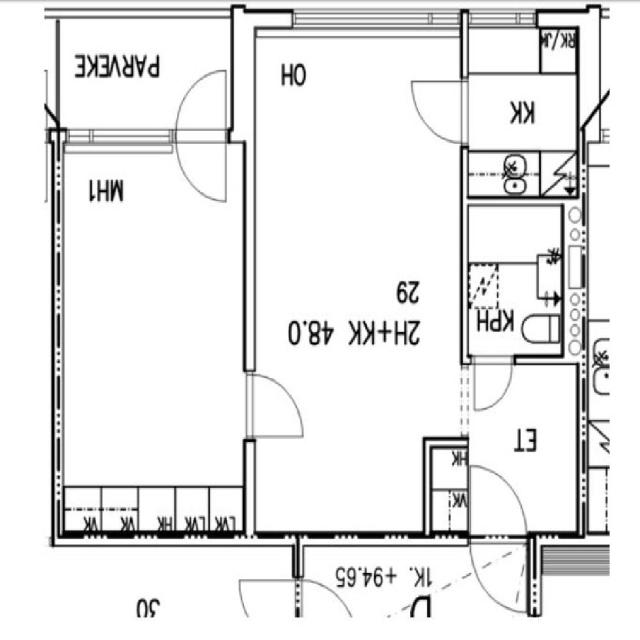door: (172, 65, 232, 211), (240, 365, 308, 442), (407, 68, 470, 148), (467, 460, 528, 535), (462, 349, 520, 417), (296, 570, 357, 633)
window: (60, 121, 174, 154), (465, 3, 541, 31)
zone: (50, 137, 252, 506), (250, 50, 462, 391), (462, 24, 581, 201), (467, 358, 582, 536), (461, 199, 570, 364), (426, 436, 470, 533), (60, 484, 139, 536), (208, 485, 245, 534)
